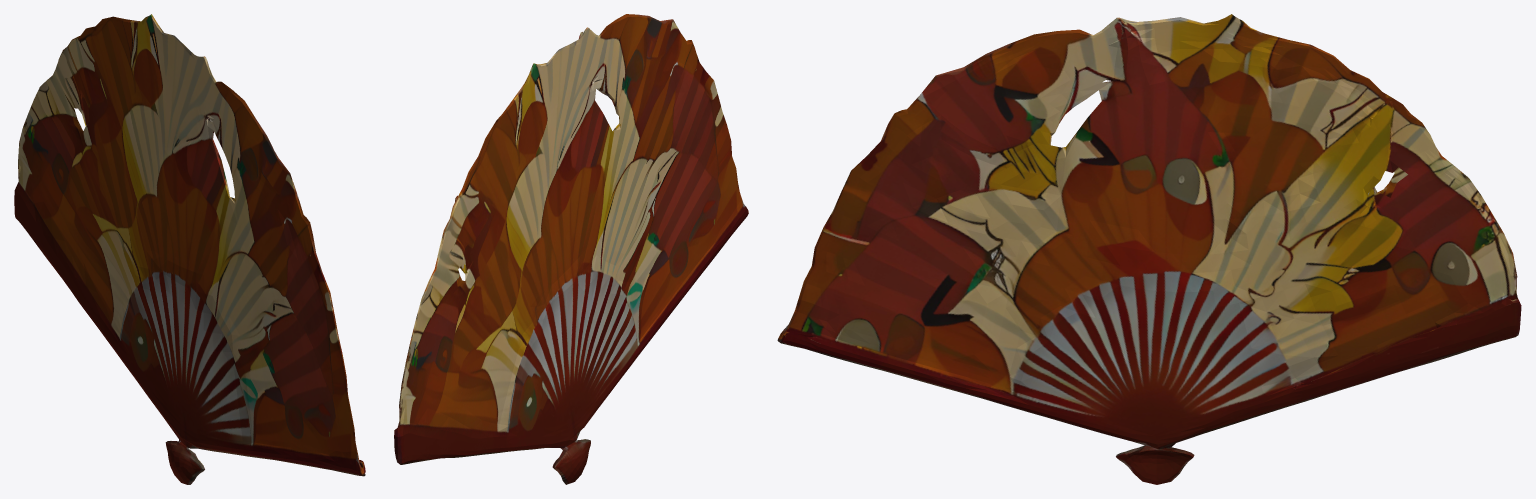
3 renders of one model, left to right at view 1: azimuth 30°, elevation 25°; view 2: azimuth 150°, elevation 25°; view 3: azimuth 270°, elevation 25°, orthographic. The views are drawn at different scales.
Parts seen in each view (by area): view 1: tripo_node_1fa81330-37bf-4529-a163-9ba6b2ca3b64; view 2: tripo_node_1fa81330-37bf-4529-a163-9ba6b2ca3b64; view 3: tripo_node_1fa81330-37bf-4529-a163-9ba6b2ca3b64.
Part boxes in pixels (x1,y1,x2,y2): tripo_node_1fa81330-37bf-4529-a163-9ba6b2ca3b64: (14, 14, 365, 484); tripo_node_1fa81330-37bf-4529-a163-9ba6b2ca3b64: (394, 14, 748, 484); tripo_node_1fa81330-37bf-4529-a163-9ba6b2ca3b64: (777, 14, 1521, 484).
Bounding box in the file's own units: 0.0259 × 0.6991 × 0.9974.
1 material, 1 textured.
